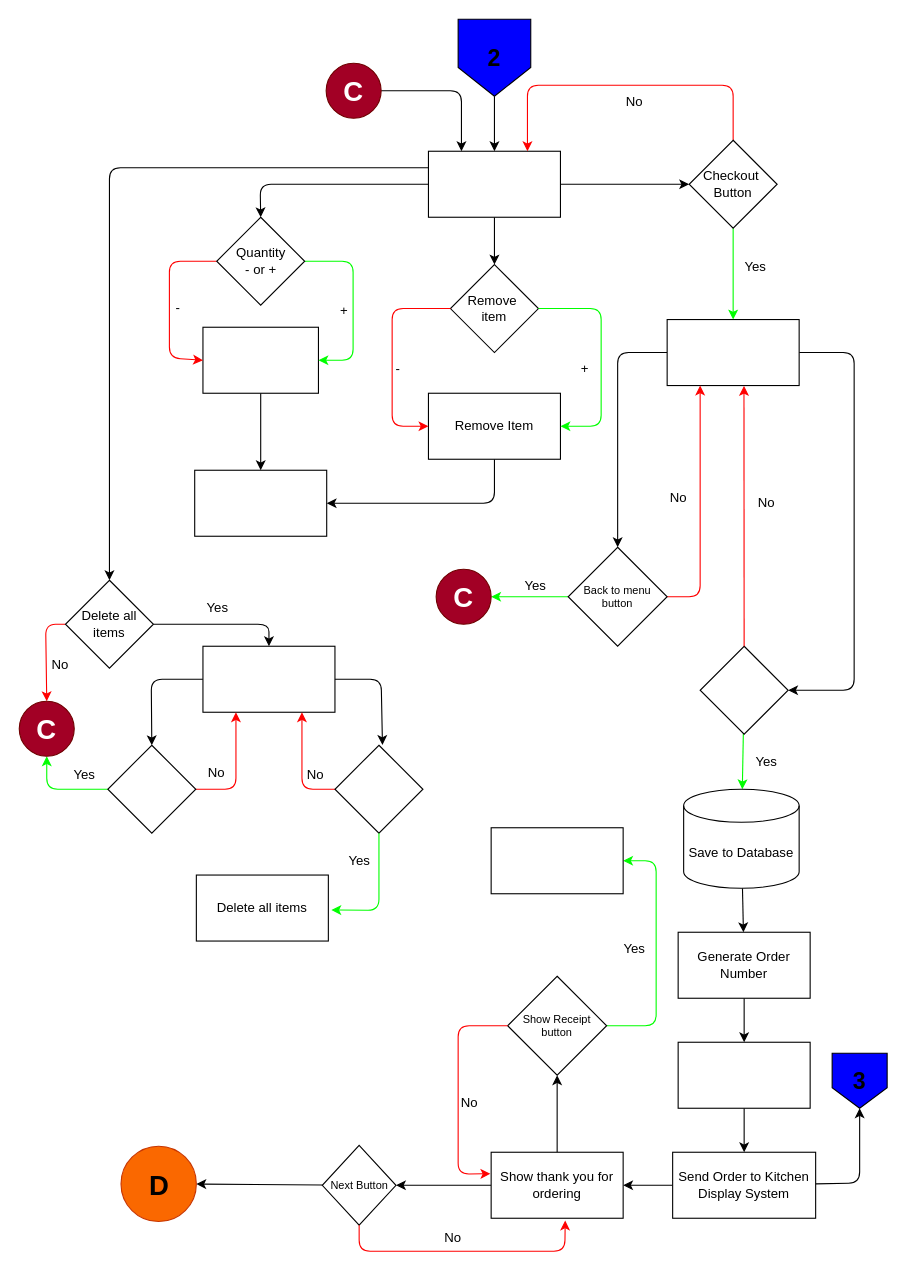
This 906x1279 diagram has some shape labels left out. Each missing label, with the centre of its shape:
"Confirm Order" goes at pixel 743 689.
"No Button" goes at pixel 151 788.
"Print Receipt" goes at pixel 743 1074.
"show delete confirmation" goes at pixel 268 678.
"Show Order List" goes at pixel 732 352.
"Show Receipt" goes at pixel 556 860.
"Update Ordered Items, Total Price, Total Item" goes at pixel 260 502.
"Update Quantity" goes at pixel 260 359.
"View Ordered Items" goes at pixel 493 183.
"Yes Button" goes at pixel 378 788.
